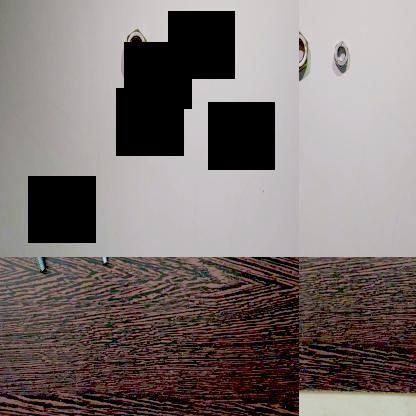Bolts: (23, 257, 51, 274), (90, 257, 110, 269)
NUTS: (124, 26, 150, 76), (330, 36, 352, 76), (299, 20, 312, 82), (172, 34, 192, 74)
